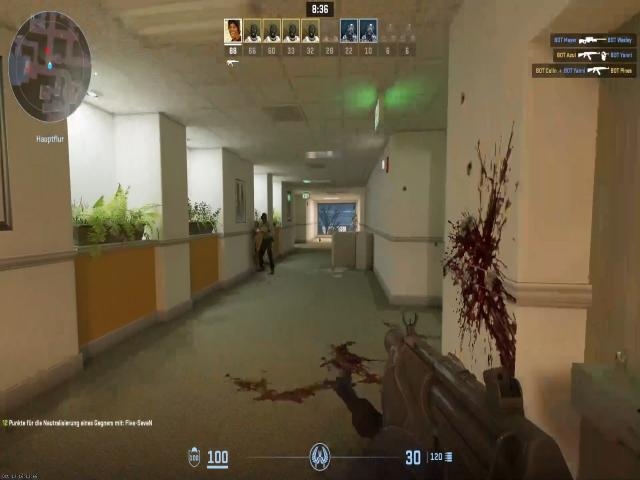T: (257, 208, 275, 246)
T-Head: (259, 210, 268, 226)
